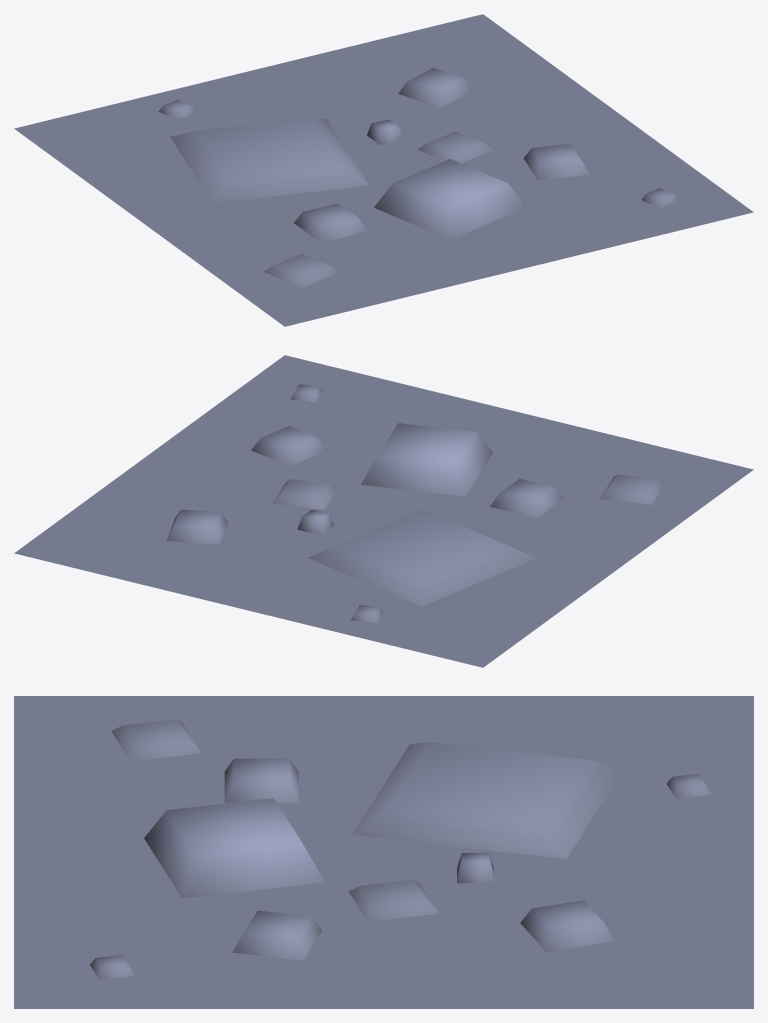
Rendered from floor-detail.fbx.
3 views of the same model, one above another, from view 1: azimuth 30°, elevation 25°; view 2: azimuth 150°, elevation 25°; view 3: azimuth 270°, elevation 25° (orthographic). The views are drawn at different scales.
Visible parts, largest first — view 1: floor-detail; view 2: floor-detail; view 3: floor-detail.
Part boxes in pixels (bbox=[...]): floor-detail: bbox=[14, 14, 753, 326]; floor-detail: bbox=[14, 355, 753, 667]; floor-detail: bbox=[14, 696, 753, 1008].
Bounding box in the file's own units: 100 × 5 × 100.
